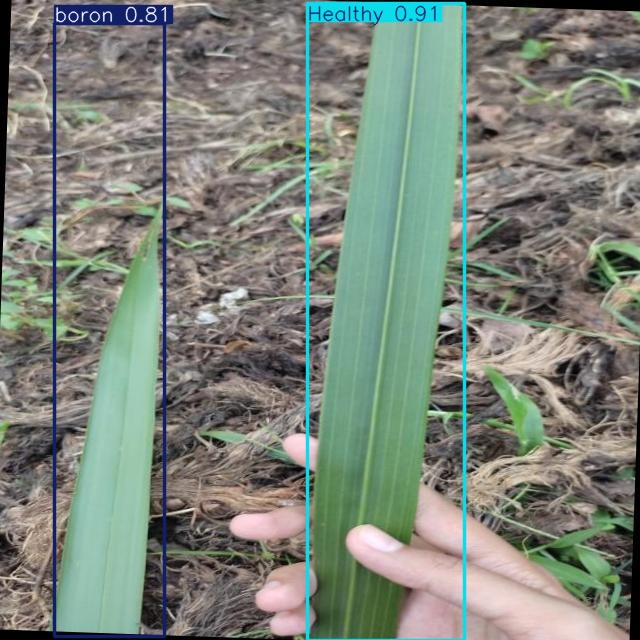Healthy: (308, 3, 464, 640)
nitrogen: (54, 24, 165, 636)
